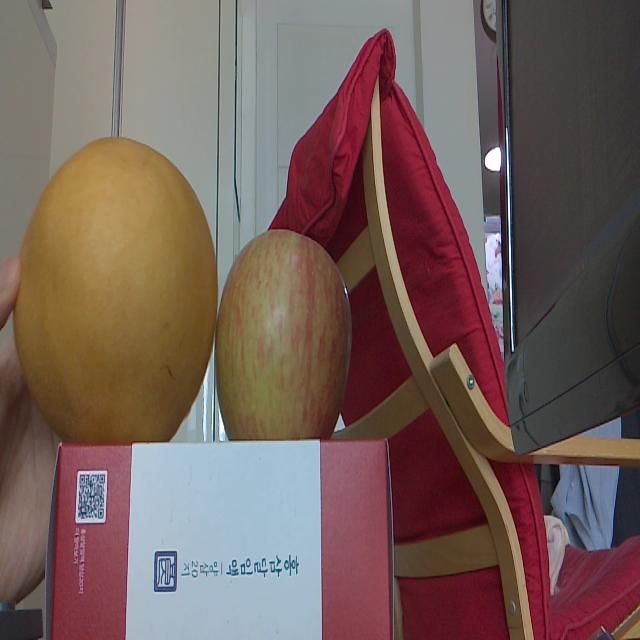apple: (216, 231, 354, 442)
pear: (13, 137, 217, 440)
